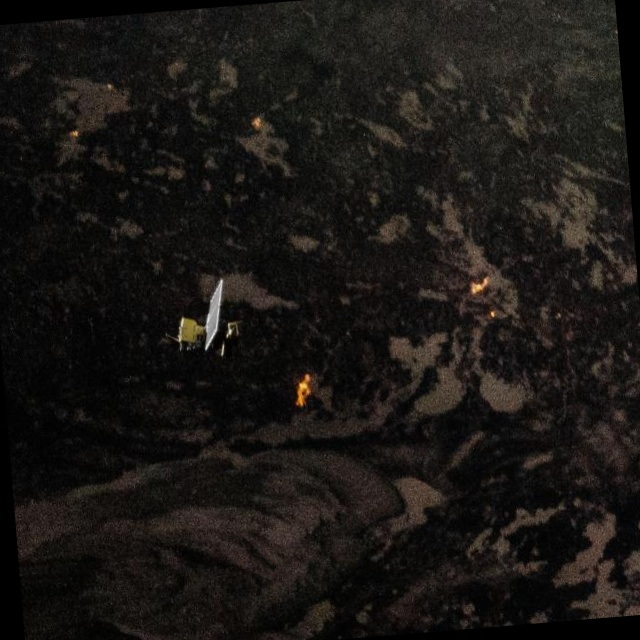satellite: (146, 267, 259, 374)
